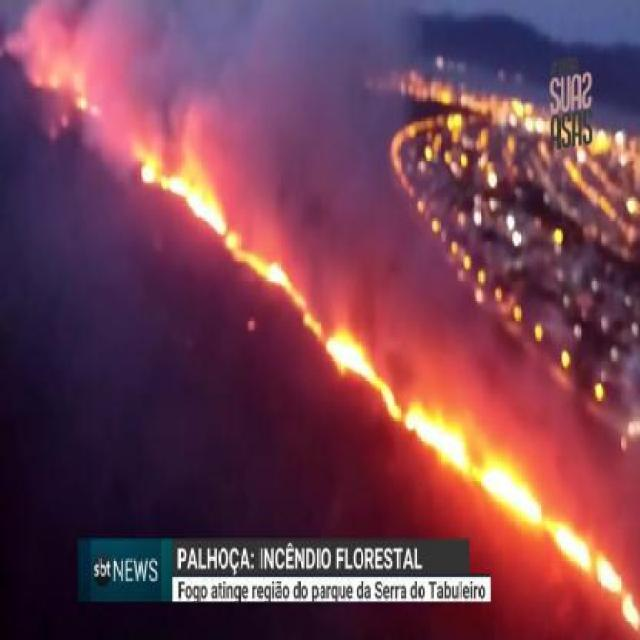Fire: (139, 150, 636, 626)
